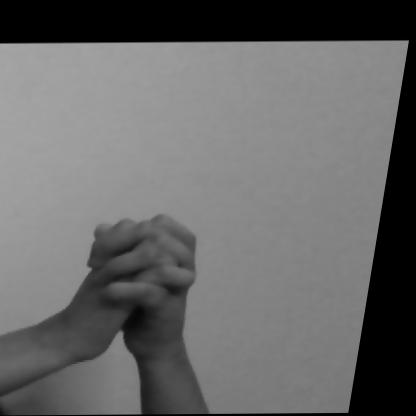prayer: (25, 193, 310, 386)
